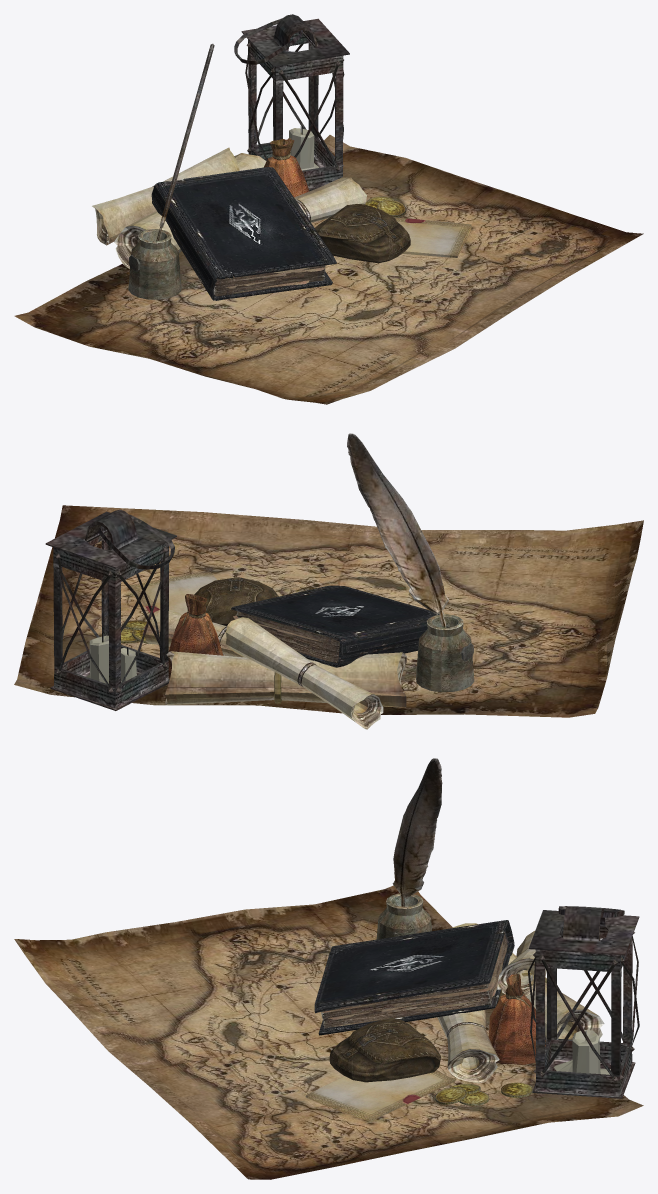
Rendered from skyrim map.fbx.
3 renders of one model, top to bottom at view 1: azimuth 30°, elevation 25°; view 2: azimuth 150°, elevation 25°; view 3: azimuth 270°, elevation 25°, orthographic. The views are drawn at different scales.
Parts seen in each view (by area): view 1: Component1; view 2: Component1; view 3: Component1.
Boxes of the visible parts, x1,y1,x2,y2 form: Component1: (14,14,643,404); Component1: (14,433,643,729); Component1: (14,758,643,1179).
Size of the model in its own units: 2.26 by 0.868 by 2.01.
